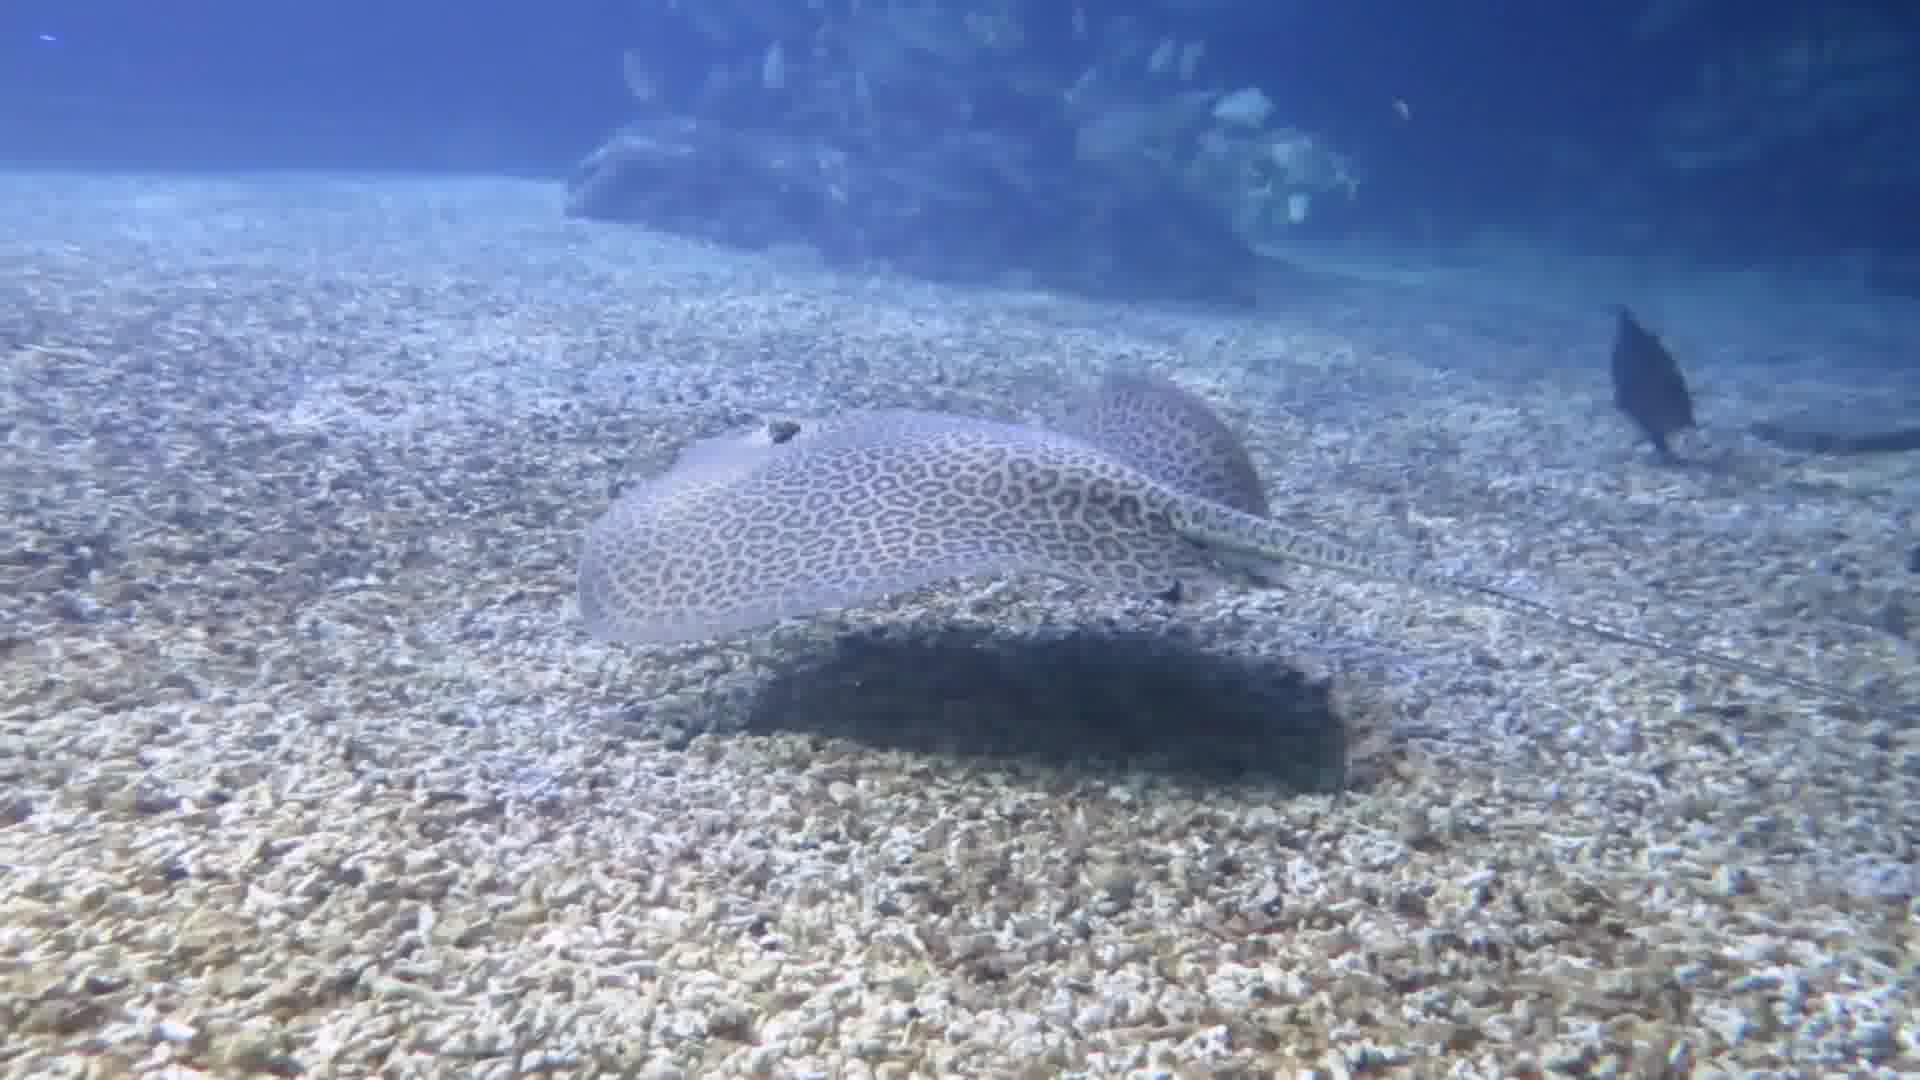Himantura uarnak: (531, 342, 1892, 820)
